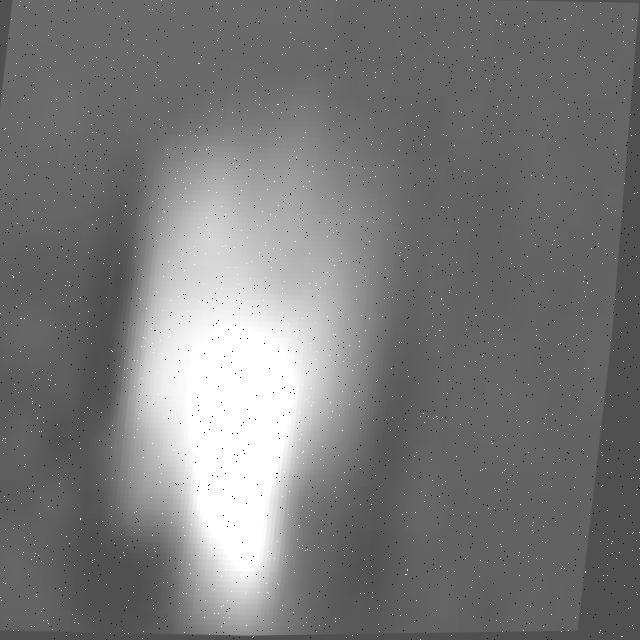person: (82, 114, 425, 640)
